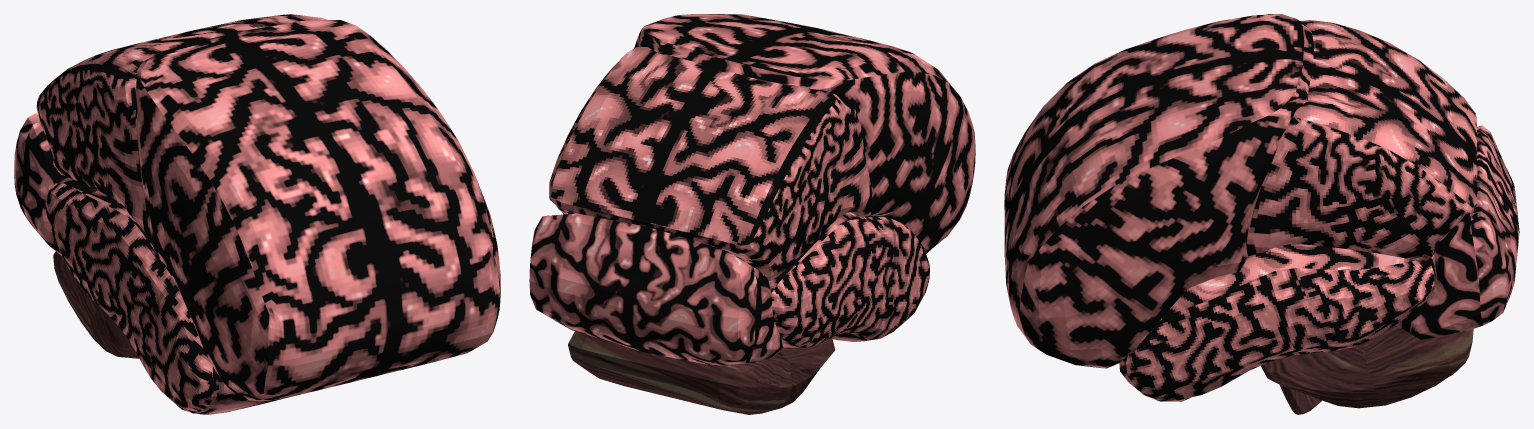
File: BossO.fbx
3 renders of one model, left to right at view 1: azimuth 30°, elevation 25°; view 2: azimuth 150°, elevation 25°; view 3: azimuth 270°, elevation 25°, orthographic. The views are drawn at different scales.
Parts seen in each view (by area): view 1: frontal.001, Temporal.001, parietal.001, Occipital.001, Cerebelo.001; view 2: parietal.001, frontal.001, Occipital.001, Temporal.001, Cerebelo.001; view 3: frontal.001, parietal.001, Temporal.001, Occipital.001, Cerebelo.001.
Boxes of the visible parts, left/top/right/bottom form: frontal.001: left=135, top=20, right=500, bottom=401; Temporal.001: left=45, top=177, right=289, bottom=414; parietal.001: left=36, top=14, right=327, bottom=234; Occipital.001: left=14, top=112, right=67, bottom=255; Cerebelo.001: left=53, top=251, right=139, bottom=358; parietal.001: left=549, top=47, right=872, bottom=280; frontal.001: left=634, top=14, right=975, bottom=253; Occipital.001: left=529, top=213, right=782, bottom=366; Temporal.001: left=768, top=212, right=929, bottom=348; Cerebelo.001: left=568, top=331, right=835, bottom=414; frontal.001: left=1004, top=14, right=1314, bottom=368; parietal.001: left=1246, top=20, right=1477, bottom=260; Temporal.001: left=1119, top=244, right=1435, bottom=401; Occipital.001: left=1396, top=125, right=1519, bottom=339; Cerebelo.001: left=1261, top=325, right=1473, bottom=414.
Size of the model in its own units: 267 by 336 by 449.
Materials: 5 (5 with a texture image).
